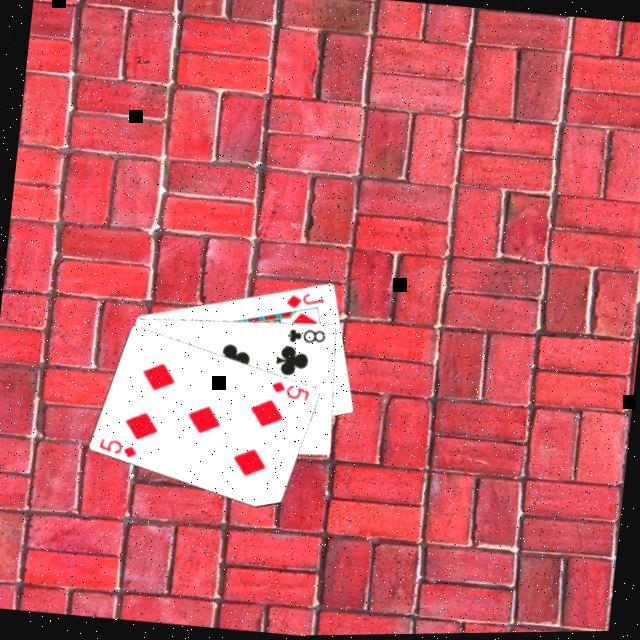5D: (96, 434, 142, 461), (269, 377, 313, 405)
8C: (284, 323, 330, 348)
JD: (282, 287, 328, 314)
